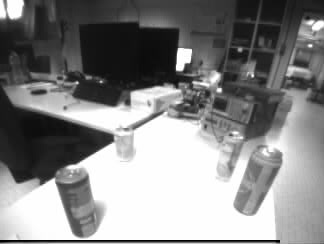Tin can: (234, 146, 283, 214), (58, 166, 96, 234), (215, 130, 243, 178), (115, 125, 134, 160)
